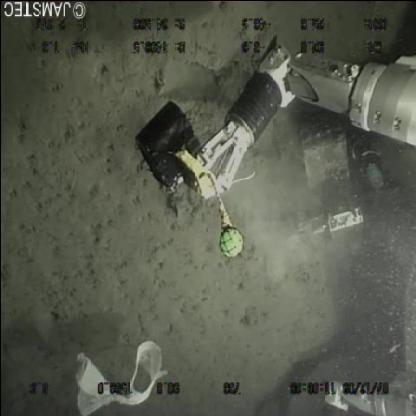Rov: (132, 31, 416, 415)
Rác: (68, 335, 172, 415)
